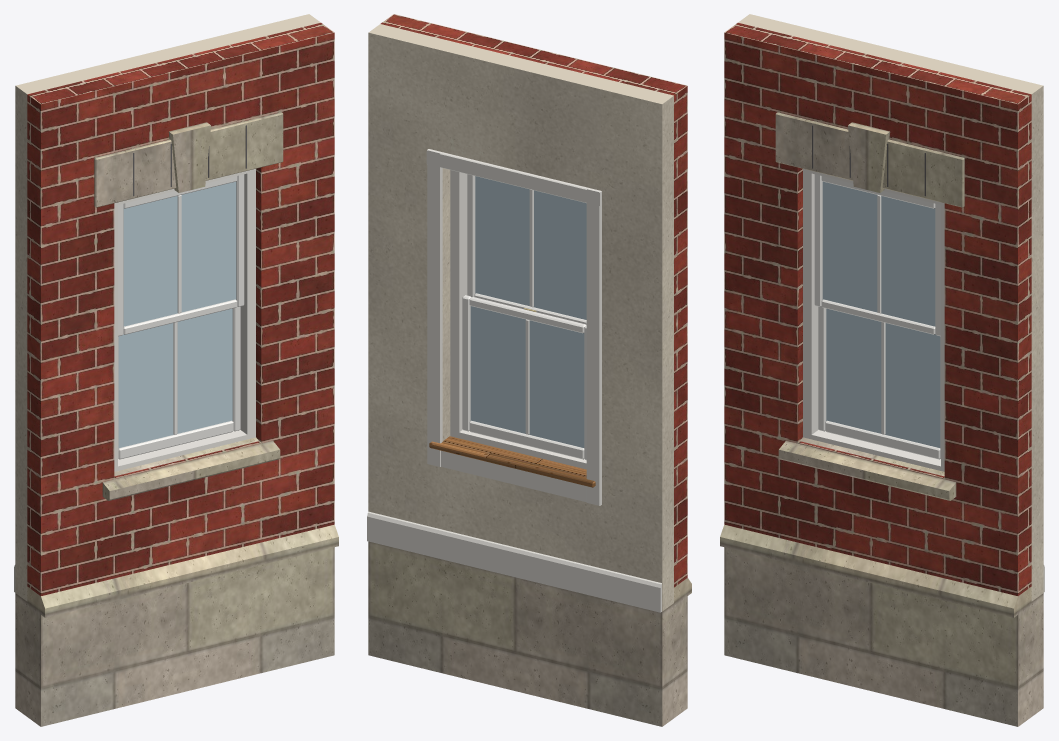
File: w0_win.glb
3 views of the same model, side by side, from view 1: azimuth 30°, elevation 25°; view 2: azimuth 150°, elevation 25°; view 3: azimuth 330°, elevation 25° (orthographic).
Parts seen in each view (by area): view 1: w0_win_brick, w0_win_stone_t, w0_win_glass, w0_win_plaster, w0_win_sash, w0_win_frame; view 2: w0_win_plaster, w0_win_stone_t, w0_win_glass, w0_win_trim, w0_win_brick, w0_win_sash, w0_win_frame, w0_win_oak; view 3: w0_win_brick, w0_win_stone_t, w0_win_glass, w0_win_plaster, w0_win_sash, w0_win_frame.
Part boxes in pixels (bbox=[...]): w0_win_brick: bbox=[27, 23, 334, 595]; w0_win_stone_t: bbox=[15, 112, 338, 726]; w0_win_glass: bbox=[118, 181, 236, 447]; w0_win_plaster: bbox=[15, 14, 320, 601]; w0_win_sash: bbox=[118, 174, 244, 459]; w0_win_frame: bbox=[114, 169, 255, 471]; w0_win_plaster: bbox=[368, 24, 673, 611]; w0_win_stone_t: bbox=[368, 541, 691, 726]; w0_win_glass: bbox=[470, 176, 586, 447]; w0_win_trim: bbox=[367, 149, 661, 612]; w0_win_brick: bbox=[380, 14, 687, 587]; w0_win_sash: bbox=[462, 174, 586, 460]; w0_win_frame: bbox=[450, 170, 586, 469]; w0_win_oak: bbox=[429, 436, 595, 487]; w0_win_brick: bbox=[724, 23, 1031, 595]; w0_win_stone_t: bbox=[720, 112, 1043, 726]; w0_win_glass: bbox=[822, 181, 940, 447]; w0_win_plaster: bbox=[738, 14, 1043, 601]; w0_win_sash: bbox=[814, 174, 940, 459]; w0_win_frame: bbox=[803, 169, 944, 471].
Bounding box in the file's own units: 2 × 4.05 × 0.435.
Materials: 10 (4 with a texture image).
